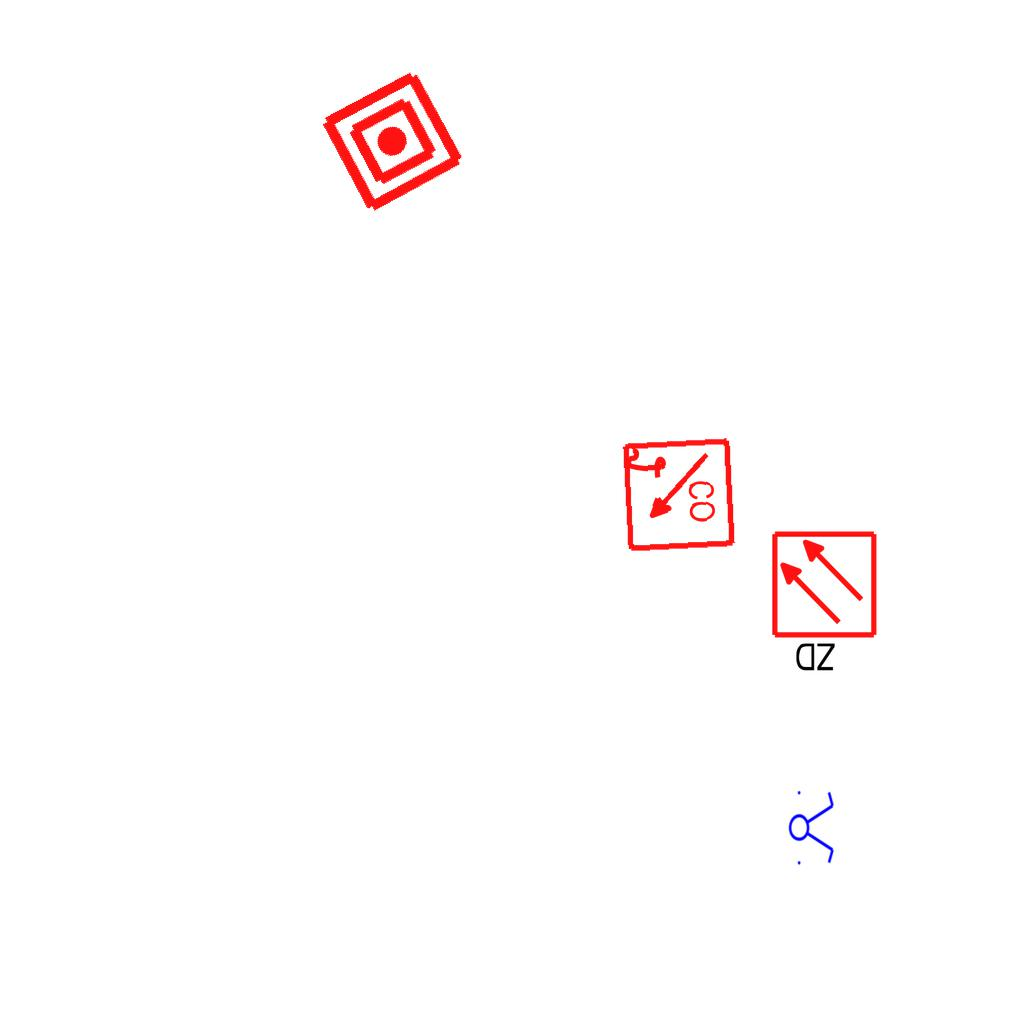NAM-Nichtautomatischer_Melder: (316, 65, 469, 218)
ROA_Rauchmelder_optisch_mit_Signalgeber_(Sockelsirene): (618, 436, 737, 555)
Serienschalter: (788, 785, 836, 869)
ZD_Melder_in_Zwischendecke_mit_Revisionsoeffnung_mind_40_x_40_cm: (769, 529, 883, 678)
